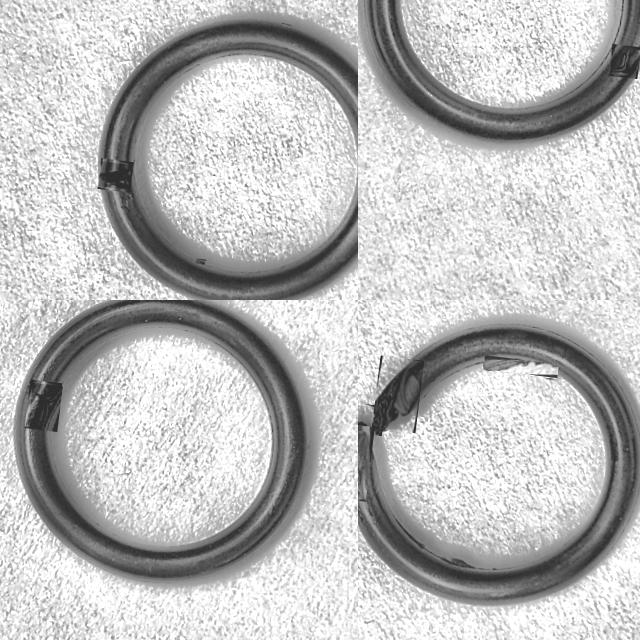侧边压痕: (282, 24, 293, 25)
切割缺陷: (374, 360, 420, 428), (31, 387, 61, 430), (609, 46, 635, 78), (99, 165, 132, 189), (358, 425, 369, 478)
挤压缺陷: (358, 407, 378, 435)
裂纹: (393, 514, 425, 547), (484, 360, 557, 371), (439, 556, 478, 568), (196, 259, 204, 264)
